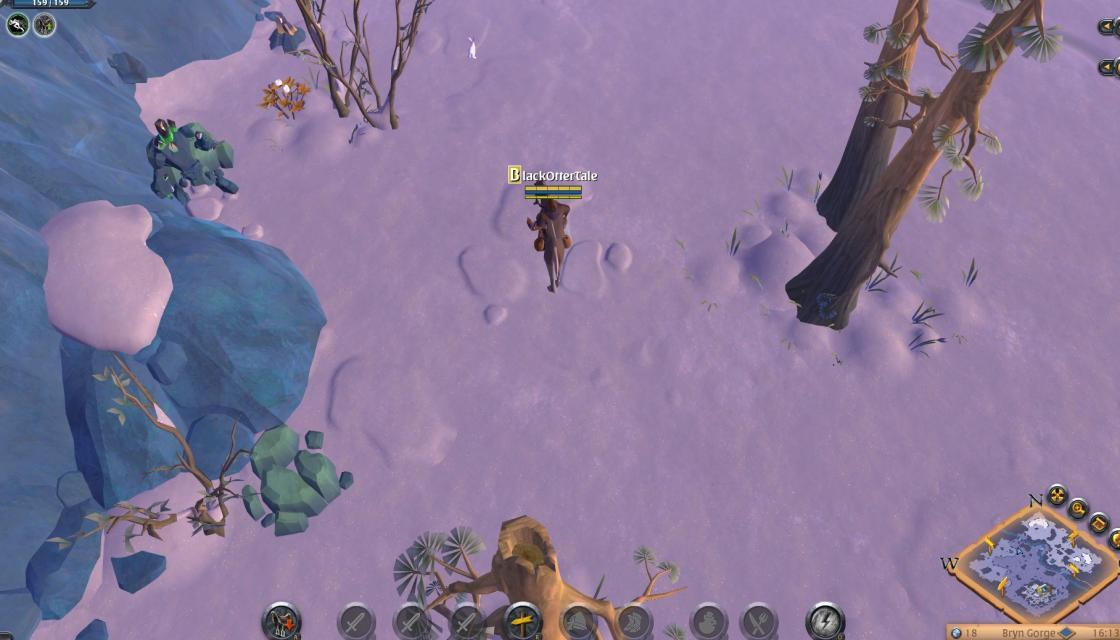copperore: (265, 9, 309, 52)
sandstone: (239, 420, 354, 534)
